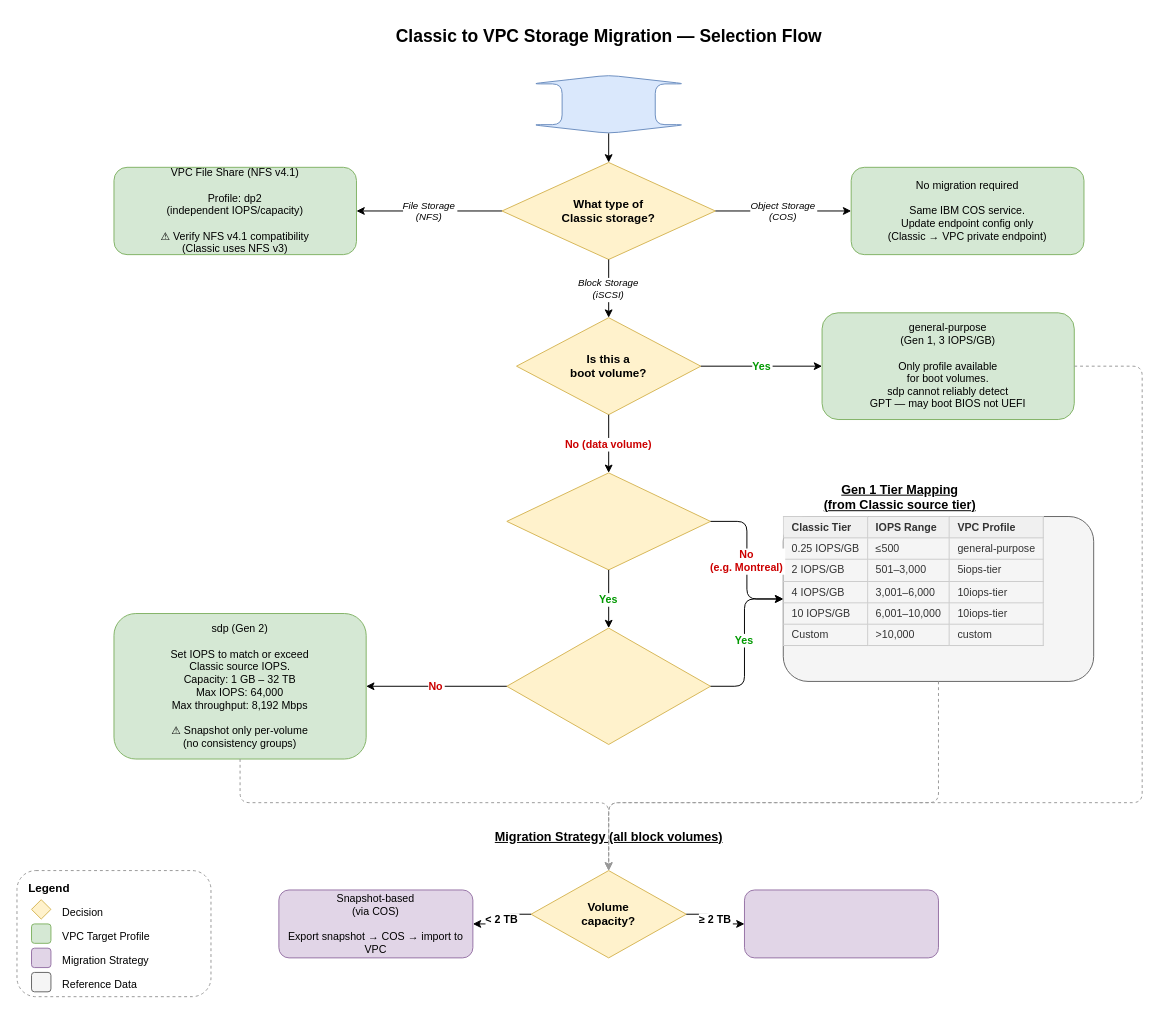
This 1167x1014 diagram has some shape labels left out. Each missing label, with the box of its shape:
Classic Storage Source: (530, 74, 686, 133)
Does VM need crash-consistent multi-volume snapshots?: (506, 627, 711, 744)
Is target region supported by sdp?: (506, 472, 711, 570)
Replication-based Minimises downtime for large volumes: (744, 889, 938, 958)
